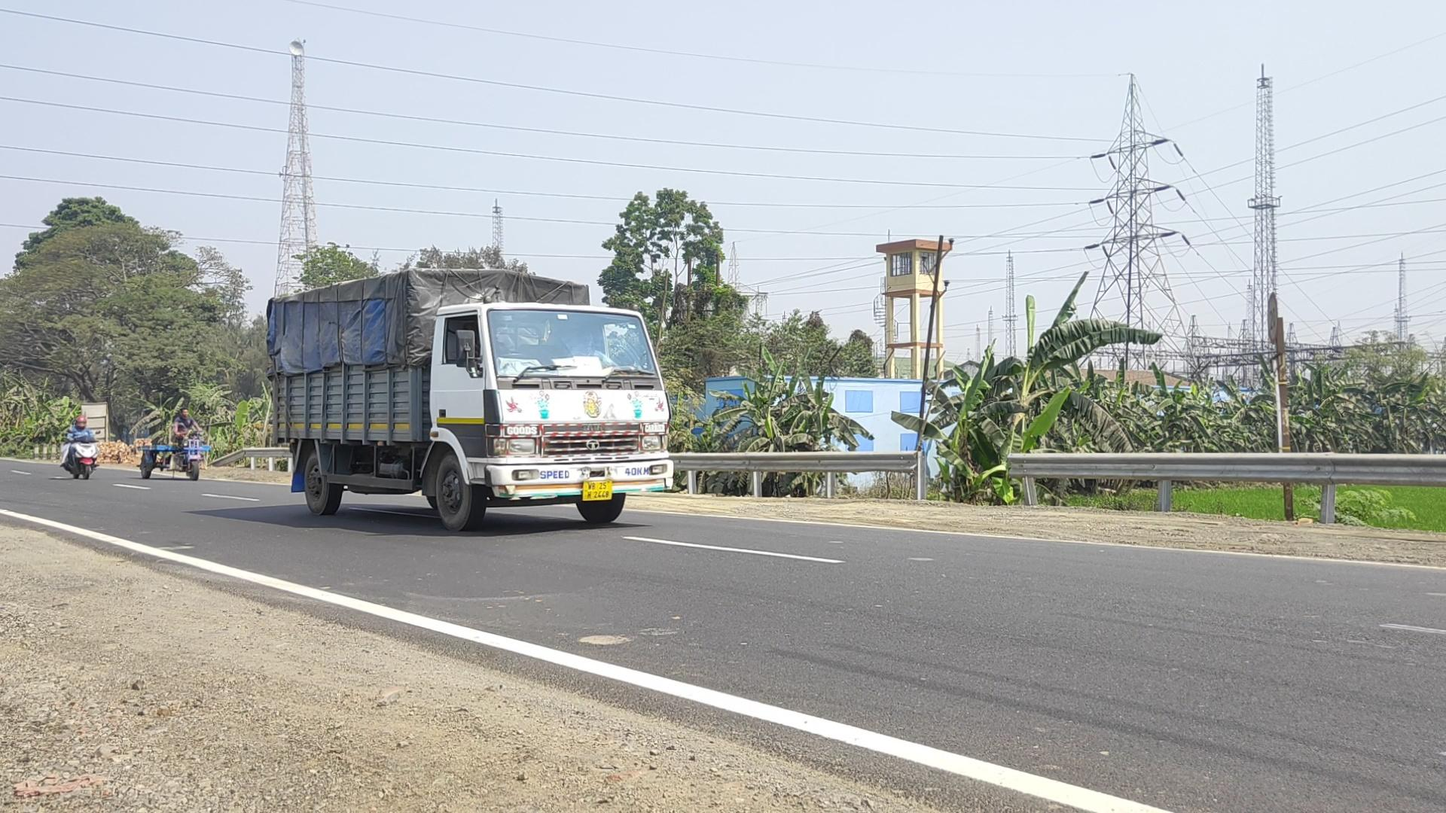bike: (61, 416, 102, 480)
truck: (270, 269, 674, 533)
